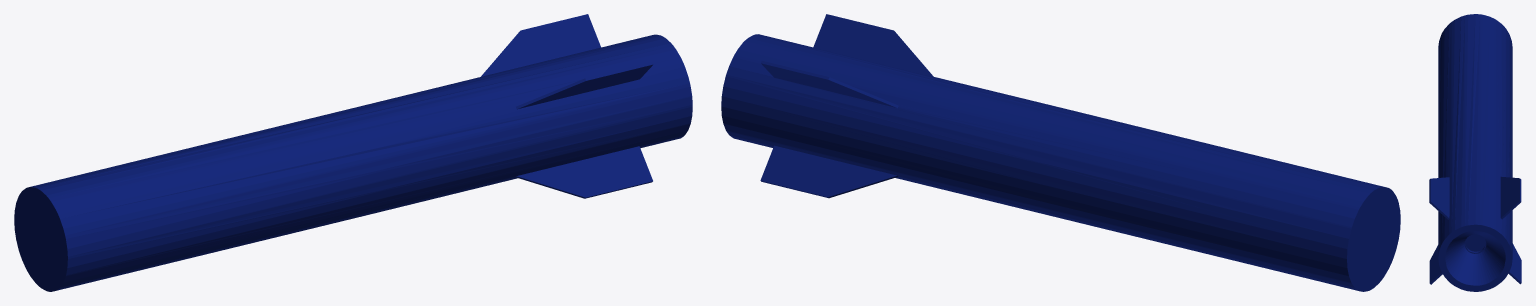
File: Halberd_Booster_Clean.obj
3 views of the same model, side by side, from view 1: azimuth 30°, elevation 25°; view 2: azimuth 150°, elevation 25°; view 3: azimuth 270°, elevation 25° (orthographic). The views are drawn at different scales.
Visible parts, largest first — view 1: GLTF; view 2: GLTF; view 3: GLTF.
Boxes of the visible parts, x1,y1,x2,y2 form: GLTF: (14,14,692,291); GLTF: (721,14,1400,291); GLTF: (1429,14,1521,291).
Bounding box in the file's own units: 1.88 × 0.3489 × 0.3489.
